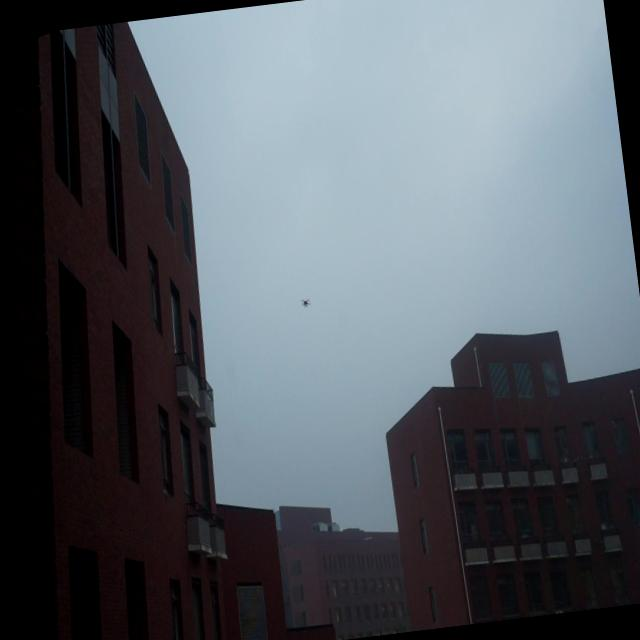drone: (298, 292, 314, 314)
